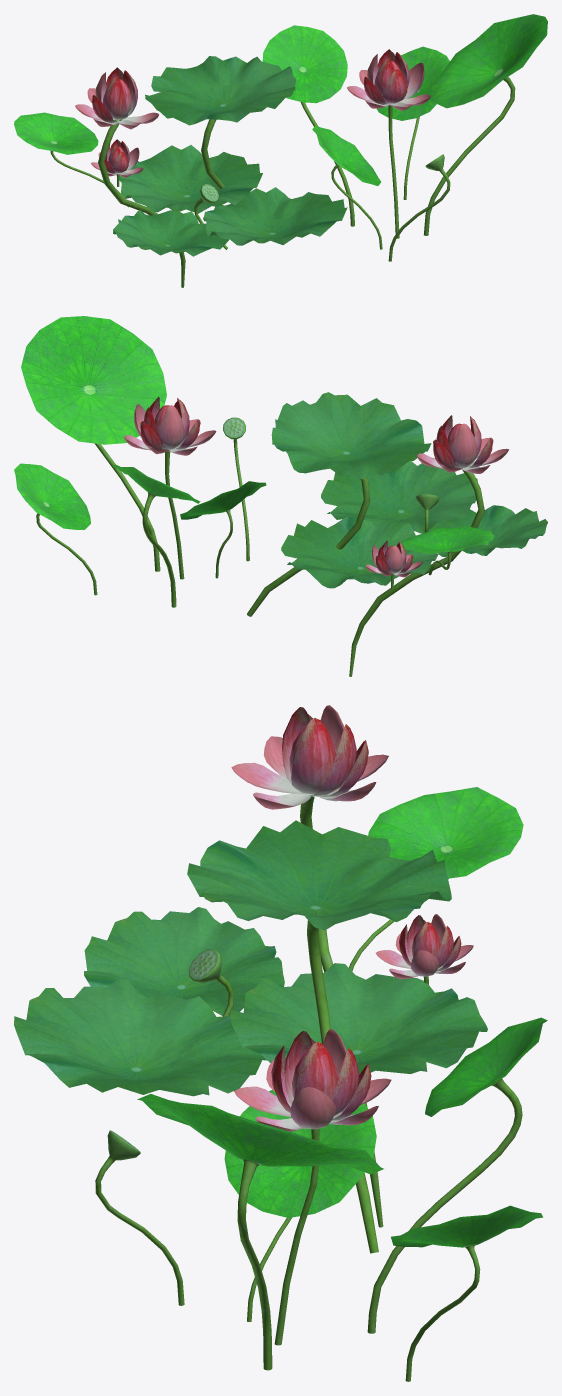
The model's file is SSZW_hehua.fbx.
3 views of the same model, one above another, from view 1: azimuth 30°, elevation 25°; view 2: azimuth 150°, elevation 25°; view 3: azimuth 270°, elevation 25° (orthographic). The views are drawn at different scales.
Visible parts, largest first — view 1: SSZW_hehua; view 2: SSZW_hehua; view 3: SSZW_hehua.
Part boxes in pixels (bbox=[...]): SSZW_hehua: bbox=[14, 14, 547, 287]; SSZW_hehua: bbox=[14, 316, 547, 676]; SSZW_hehua: bbox=[14, 705, 547, 1381].
Size of the model in its own units: 354 by 178 by 194.
3 materials, 3 textured.
